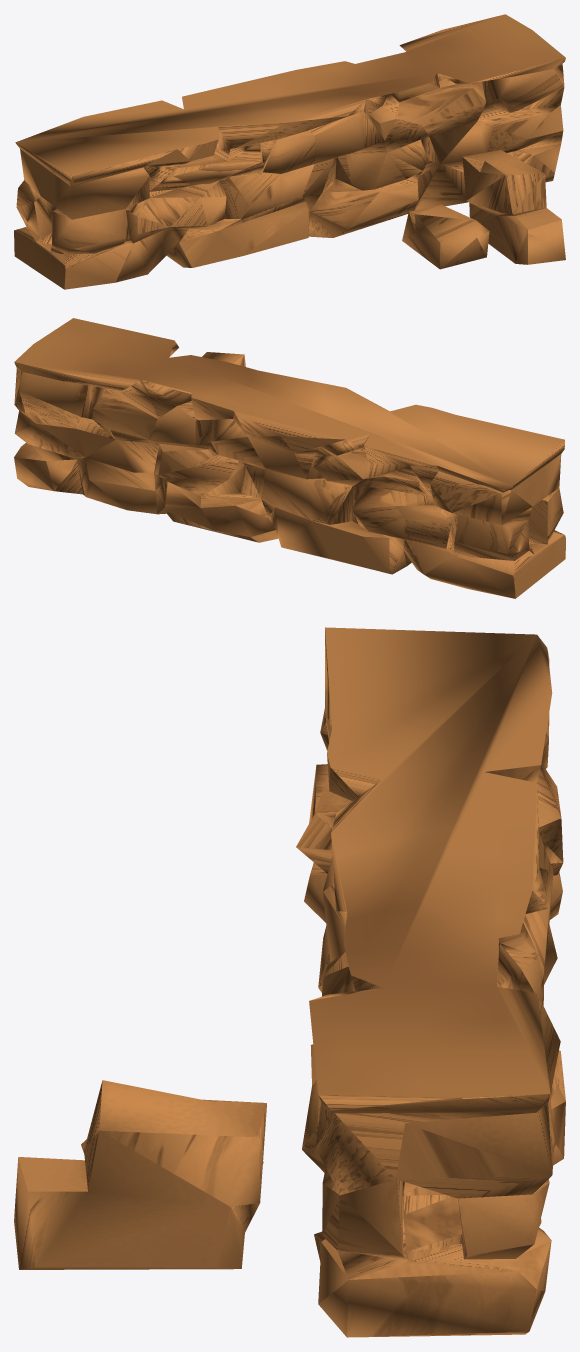
File: cover_half_temple_v2_lod1.glb
3 renders of one model, top to bottom at view 1: azimuth 30°, elevation 25°; view 2: azimuth 150°, elevation 25°; view 3: azimuth 270°, elevation 25°, orthographic. The views are drawn at different scales.
Bounding box in the file's own units: 0.9795 × 0.2392 × 0.4815.
1 material, 1 textured.
